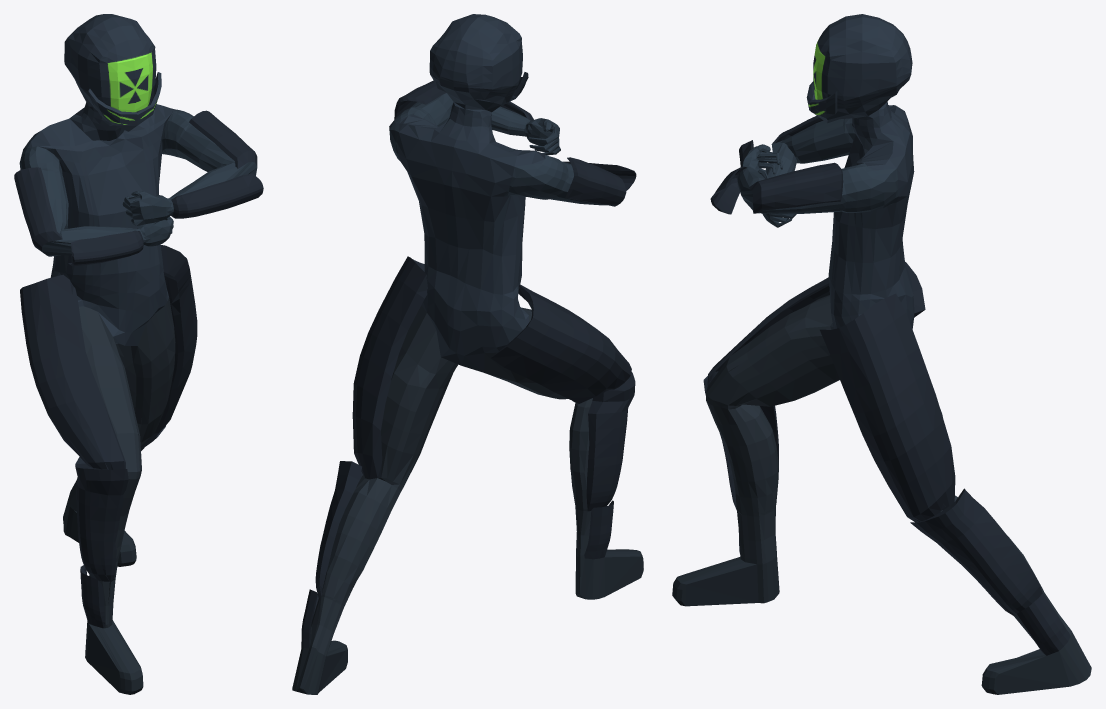
The model's file is Bastion_WL_000004.obj.
3 renders of one model, left to right at view 1: azimuth 30°, elevation 25°; view 2: azimuth 150°, elevation 25°; view 3: azimuth 270°, elevation 25°, orthographic. The views are drawn at different scales.
Visible parts, largest first — view 1: Cube.002; view 2: Cube.002; view 3: Cube.002.
Part boxes in pixels (box(x1,y1,x2,y2)): Cube.002: box(14, 14, 263, 694); Cube.002: box(292, 14, 643, 694); Cube.002: box(672, 14, 1091, 694).
Bounding box in the file's own units: 1.31 × 3.59 × 2.15.
